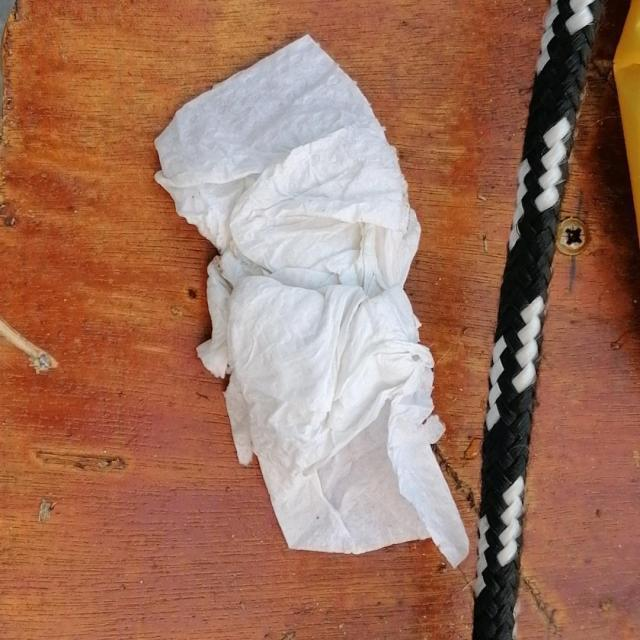Paper: (152, 33, 472, 569)
